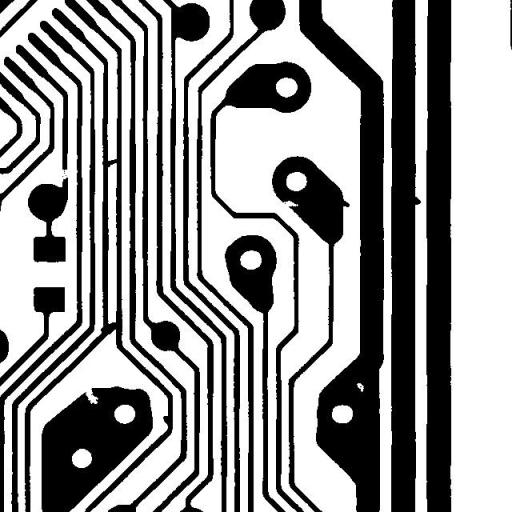mousebite: (74, 375, 106, 411), (275, 192, 306, 214)
open: (51, 162, 76, 188)
pin-hole: (349, 375, 371, 399)
short: (93, 314, 129, 342), (98, 152, 126, 174)
spur: (155, 408, 179, 436), (403, 189, 428, 212), (331, 193, 357, 214)
